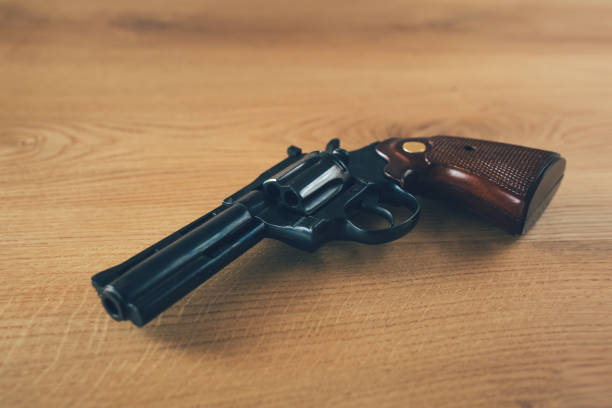gun: (90, 133, 565, 330)
